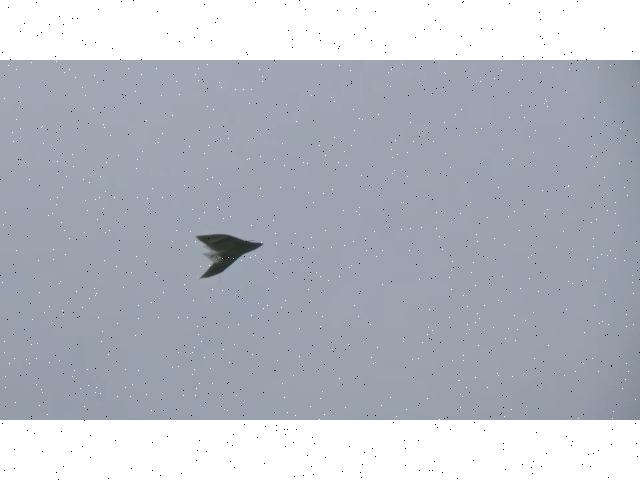Anti-Drone: (198, 234, 262, 276)
